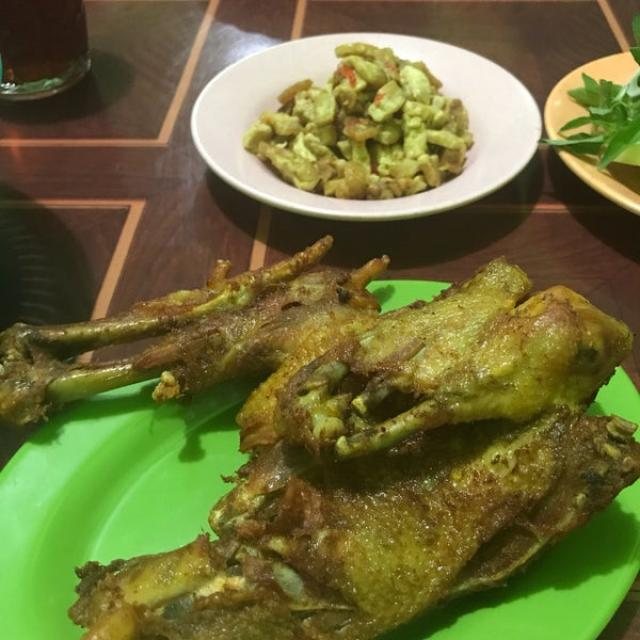Frango: (0, 248, 636, 634)
